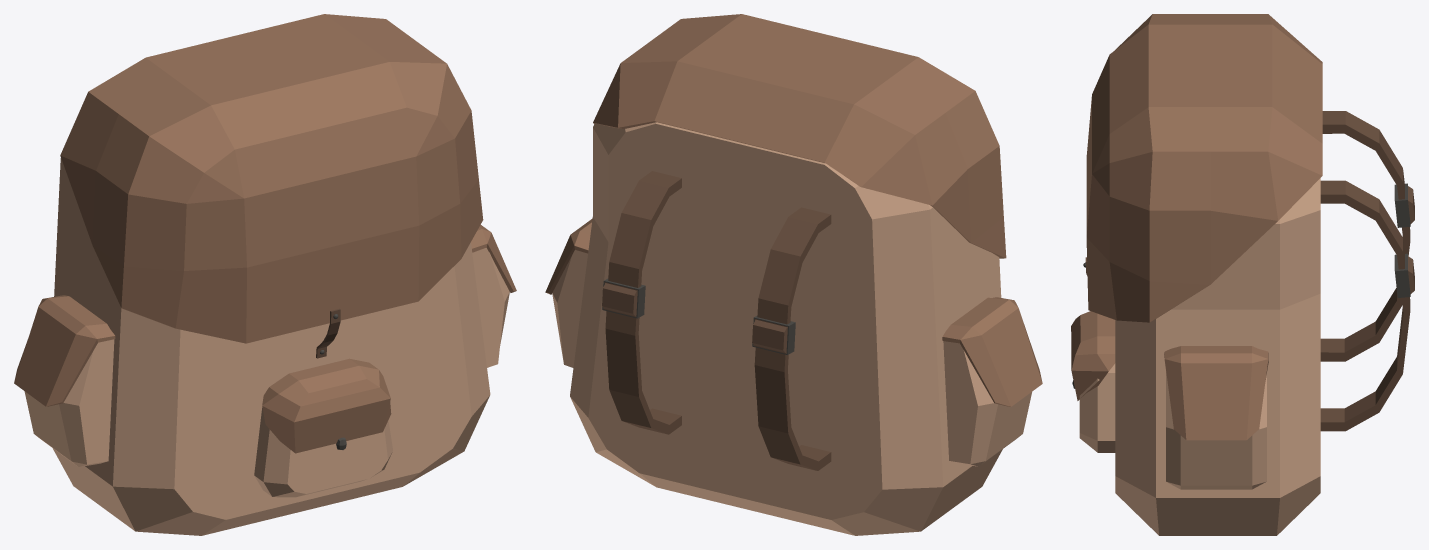
The model's file is Backpack.fbx.
3 views of the same model, side by side, from view 1: azimuth 30°, elevation 25°; view 2: azimuth 150°, elevation 25°; view 3: azimuth 270°, elevation 25° (orthographic). The views are drawn at different scales.
Parts seen in each view (by area): view 1: Backpack; view 2: Backpack; view 3: Backpack.
Boxes of the visible parts, x1=… form: Backpack: x1=14, y1=14, x2=516, y2=535; Backpack: x1=545, y1=14, x2=1042, y2=535; Backpack: x1=1071, y1=14, x2=1414, y2=535.
Bounding box in the file's own units: 261 × 228 × 174.
